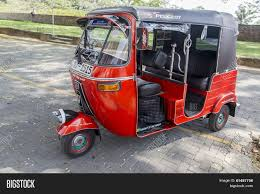tuk tuk: (52, 6, 238, 161)
